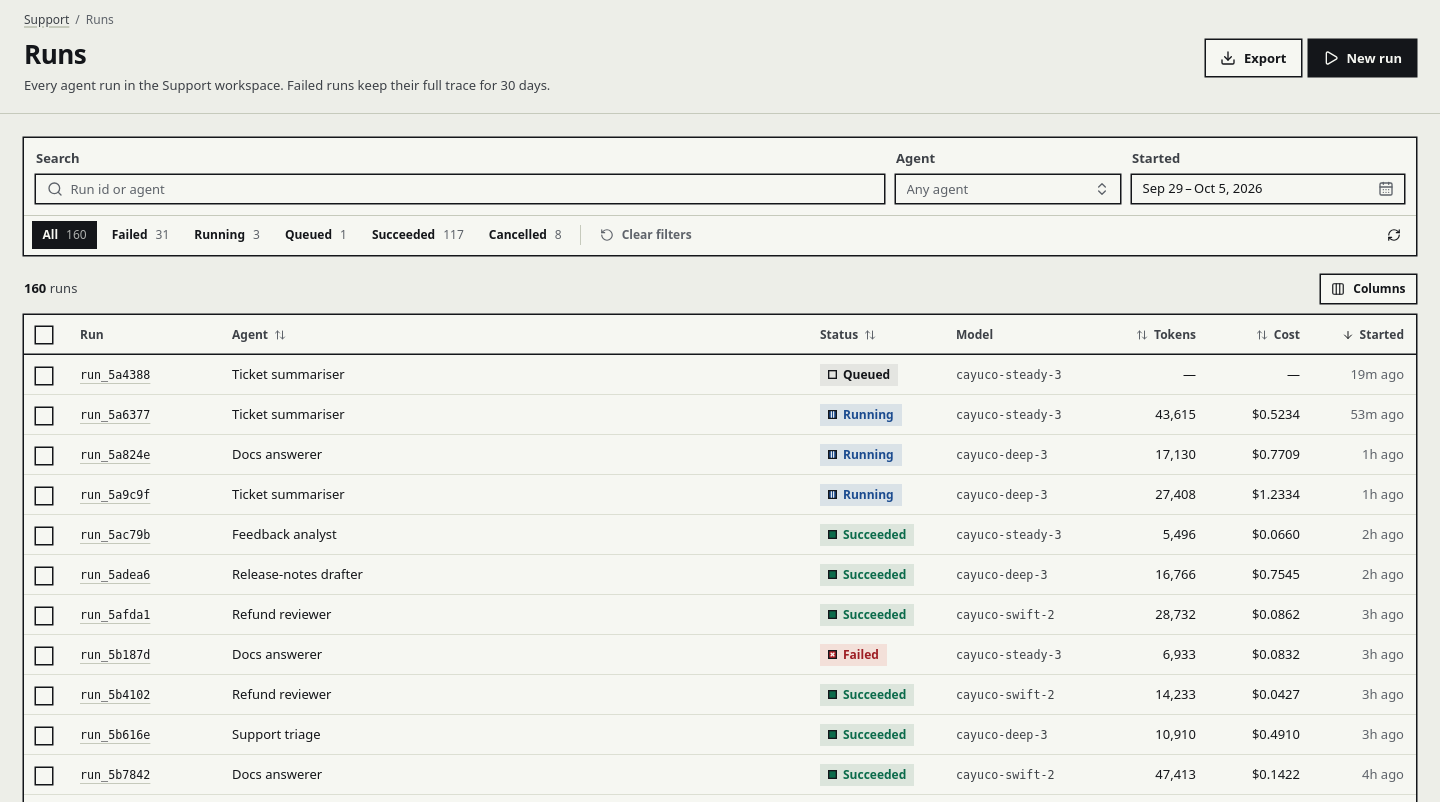
it: RunsAdminScreen › a status toggle shows exactly the runs its count promised
Click the button "Failed 31" at (140, 235), box [101,221,180,249]
(page scrolled)
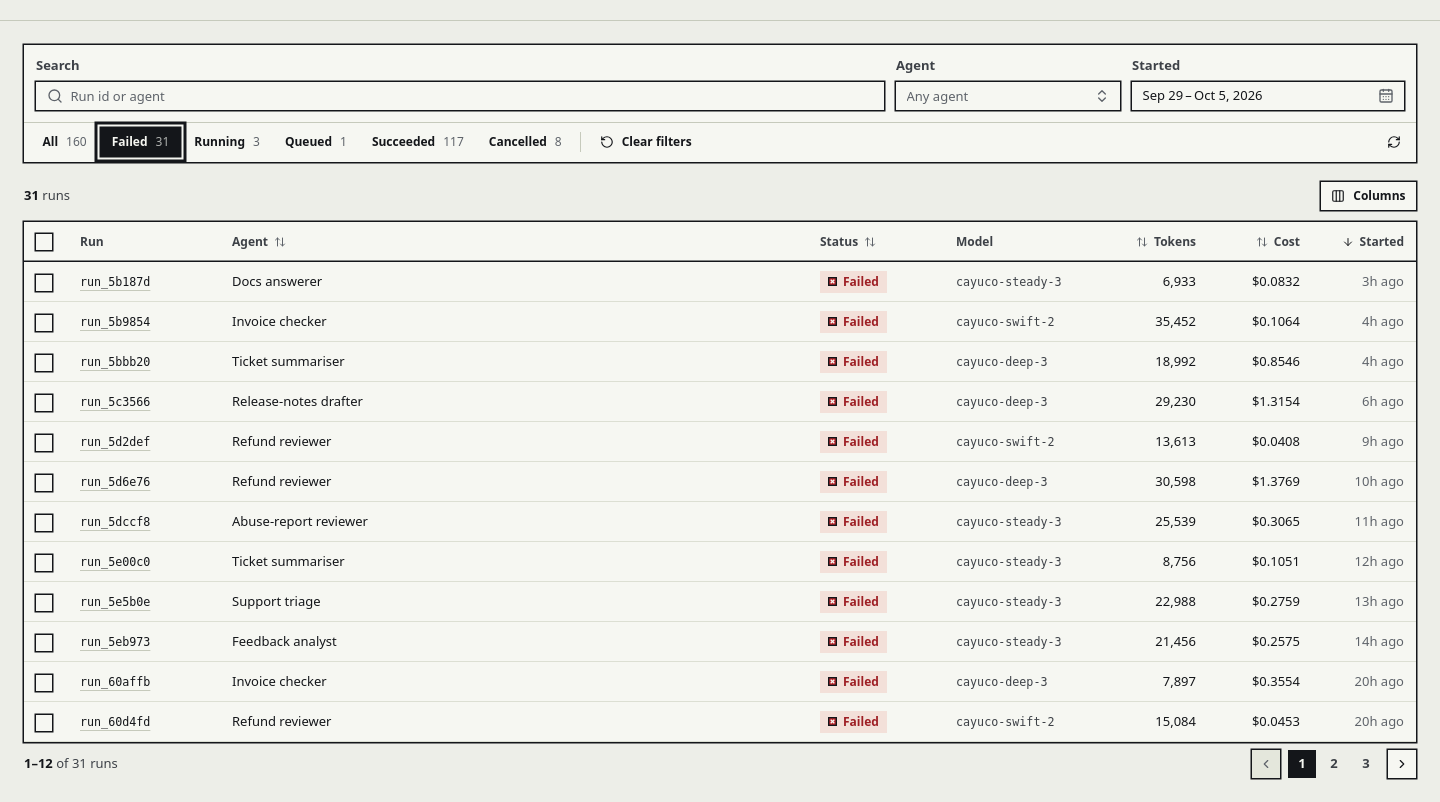
Check: the text "Failed" is shown, box [843,353,879,370]
Check: the row that starts with "run_5c3566" shows "Failed", box [843,393,879,410]
Check: the row that starts with "run_5d2def" shows "Failed", box [843,433,879,450]
